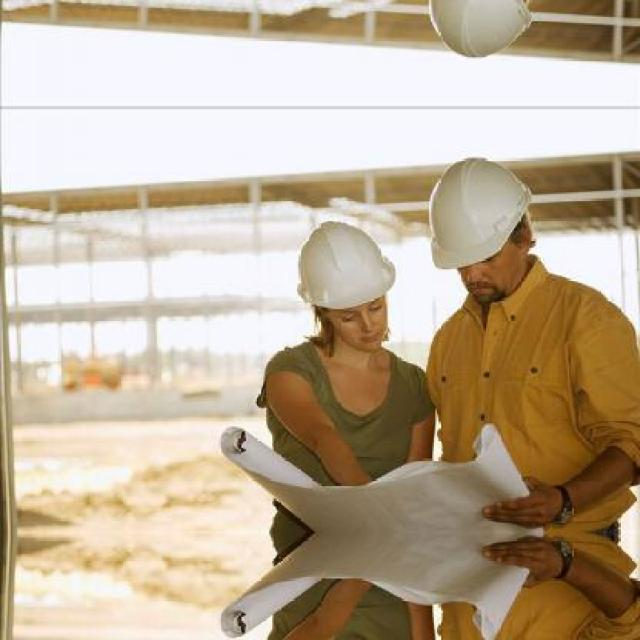helmet: (411, 144, 562, 311), (280, 208, 412, 358), (411, 0, 563, 69)
